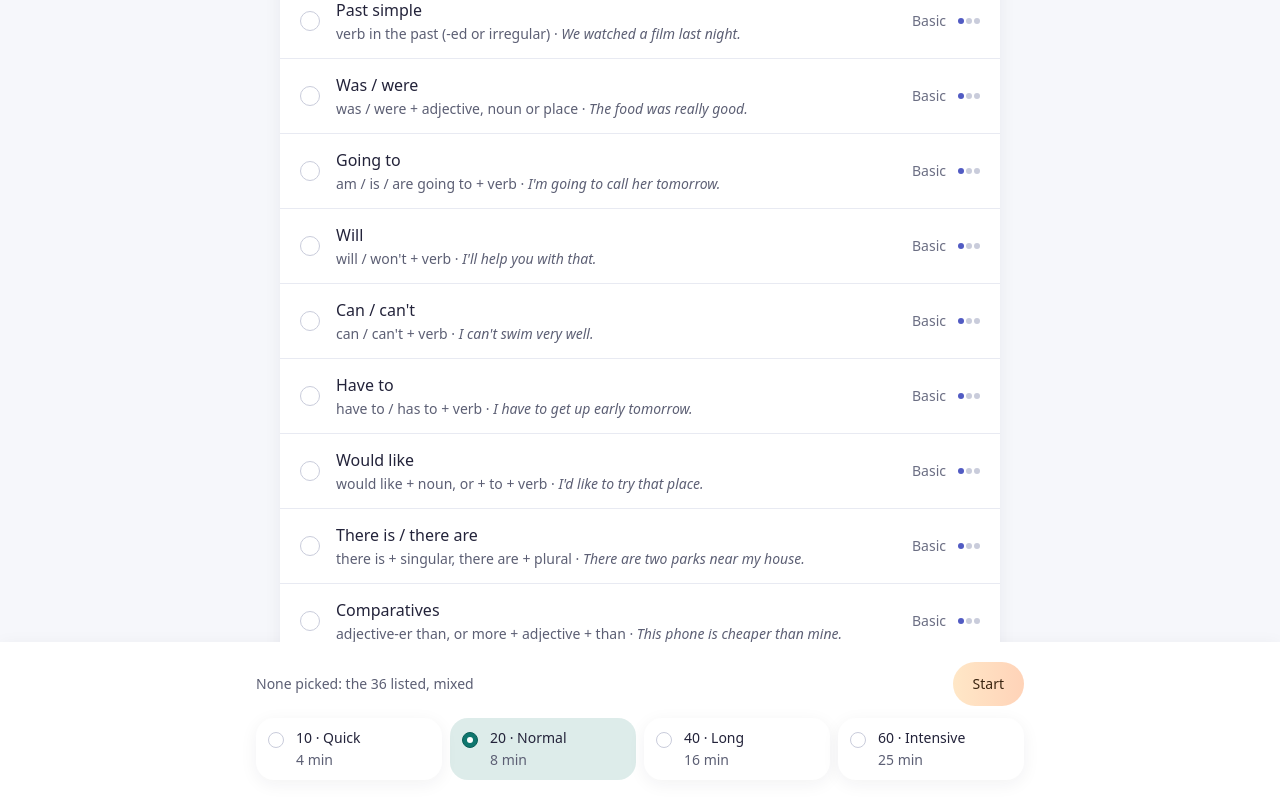
Test case: a session of structures › says what the sentence is for, with an example of the idea
(page scrolled)
Click the button "Can / can't": (376, 310) [280,284,1000,358]
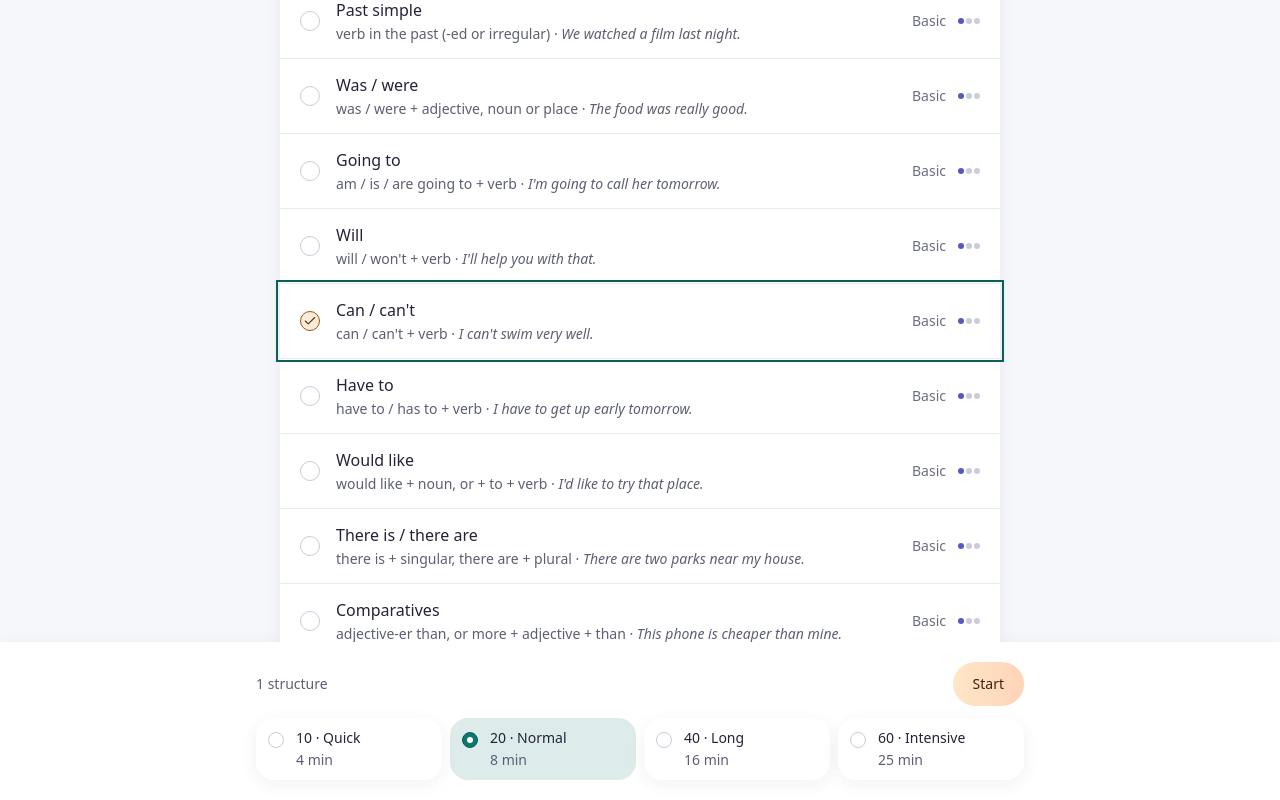
Click the radio button labelled "10 · Quick 4 min": (349, 749) [256,718,442,780]
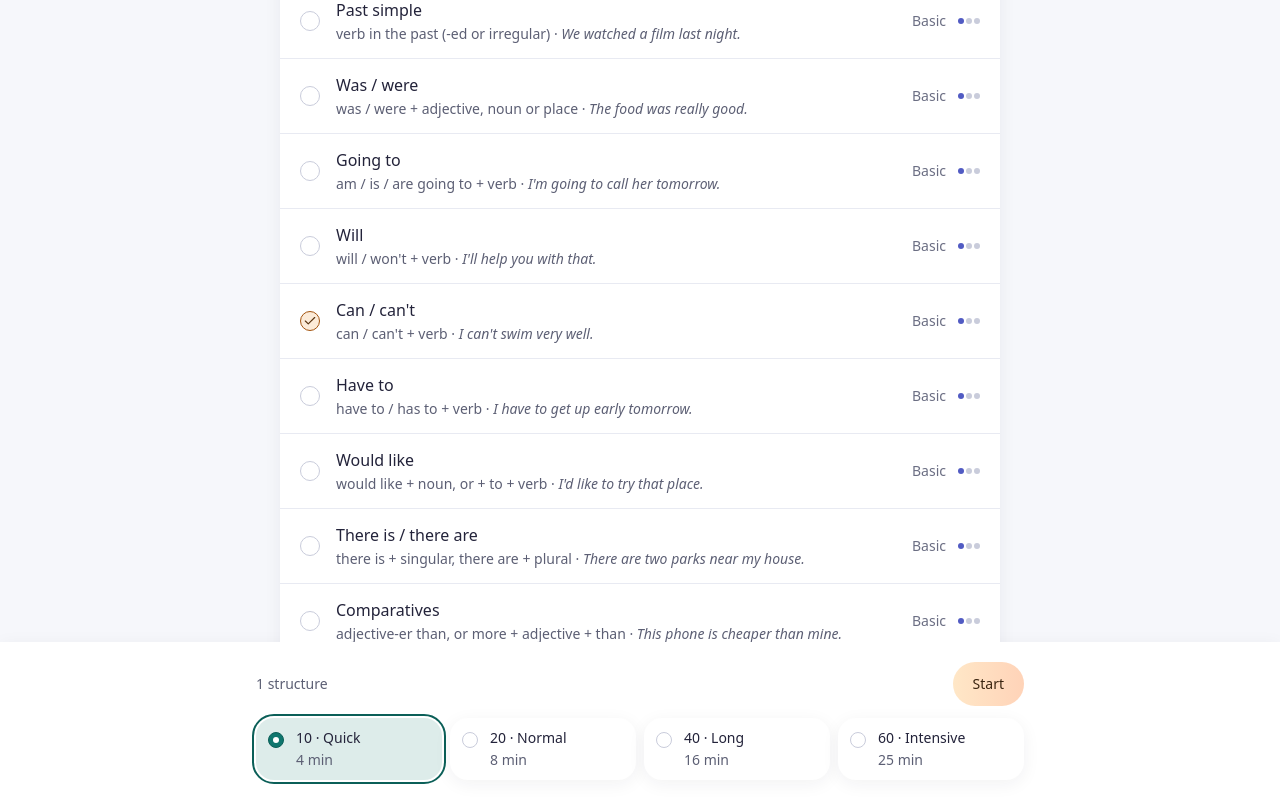
Click the button "Start": (988, 684) [953,662,1024,706]
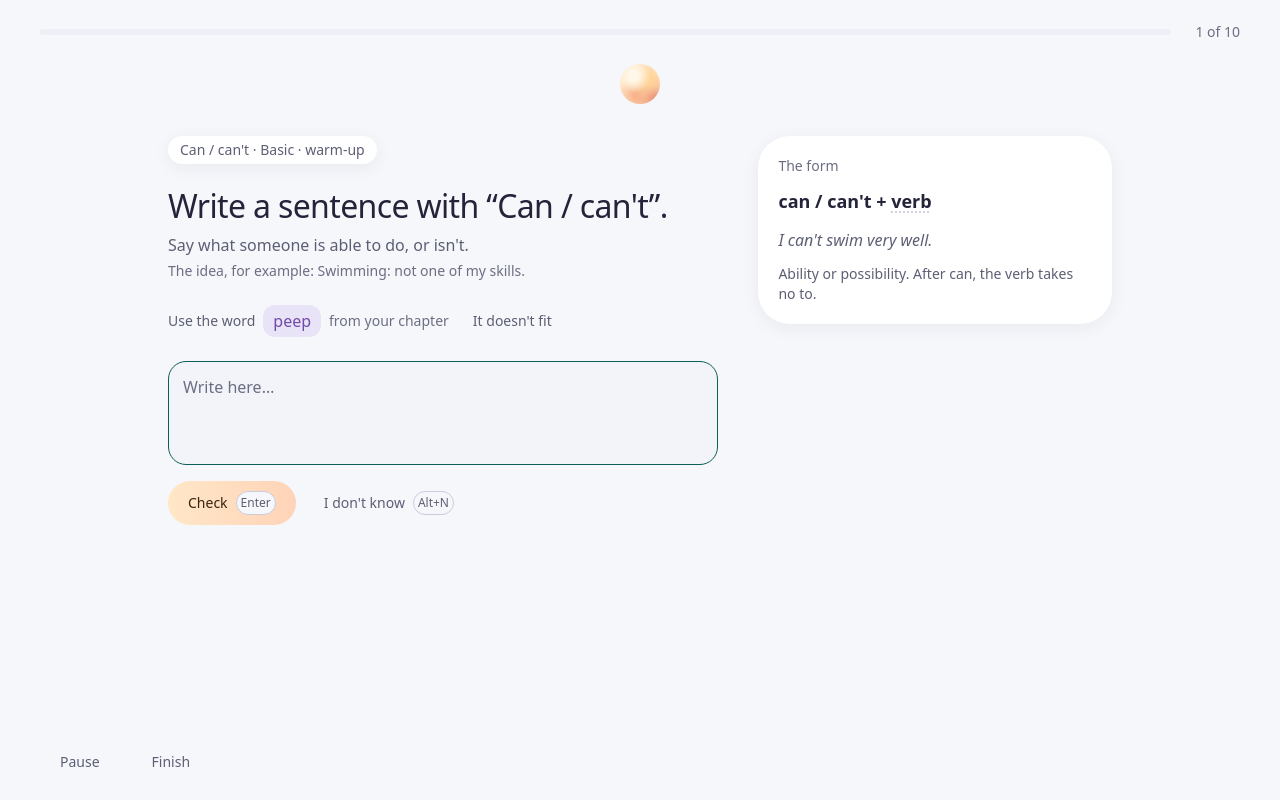
Expected: the text box named "Your sentence, in English" is shown, [168,361,718,465]
Expected: the text "Say what someone is able to do, or isn't." is shown, [168,234,469,256]
Expected: the text "The idea, for example: Swimming: not one of my skills." is shown, [168,261,525,280]
Hover over the button "Can / can't": (215, 150) [180,140,249,160]
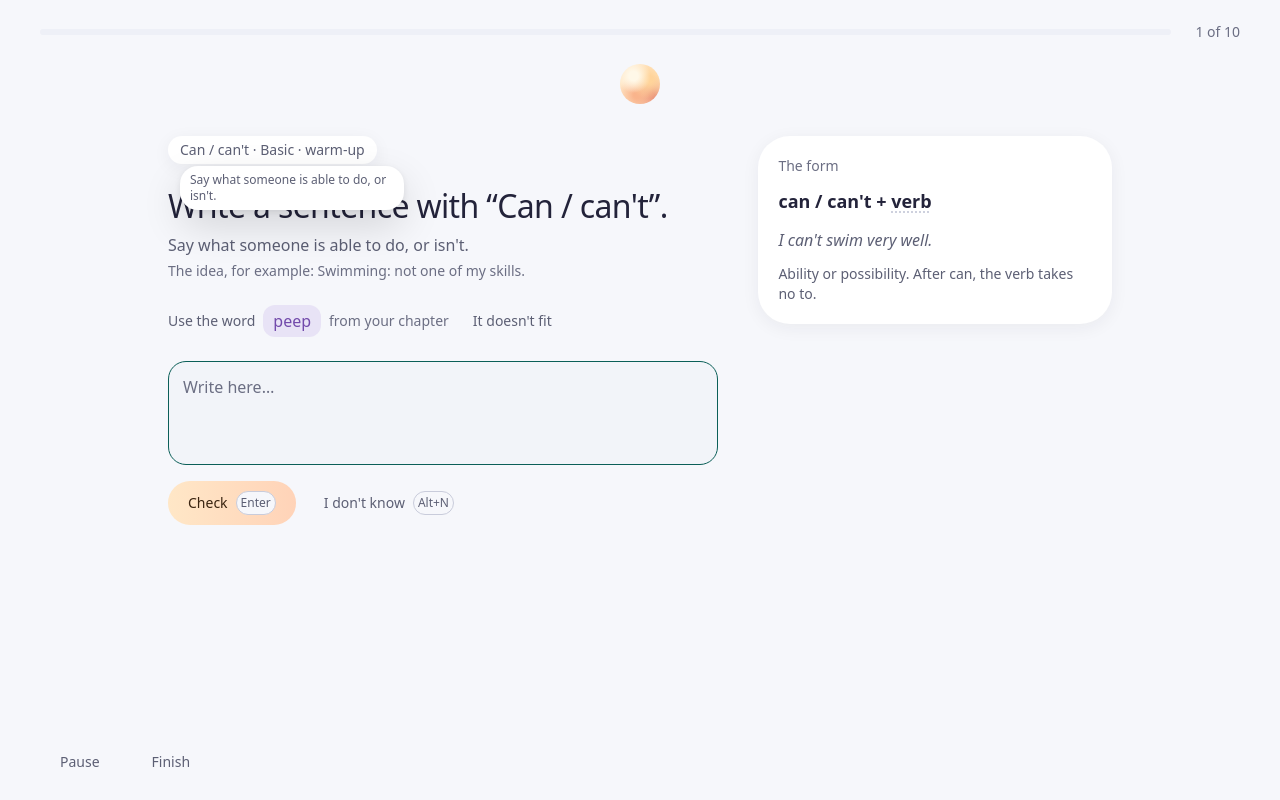
Expected: the tooltip reads "Say what someone is able to do, or isn't.", [190,171,386,204]
